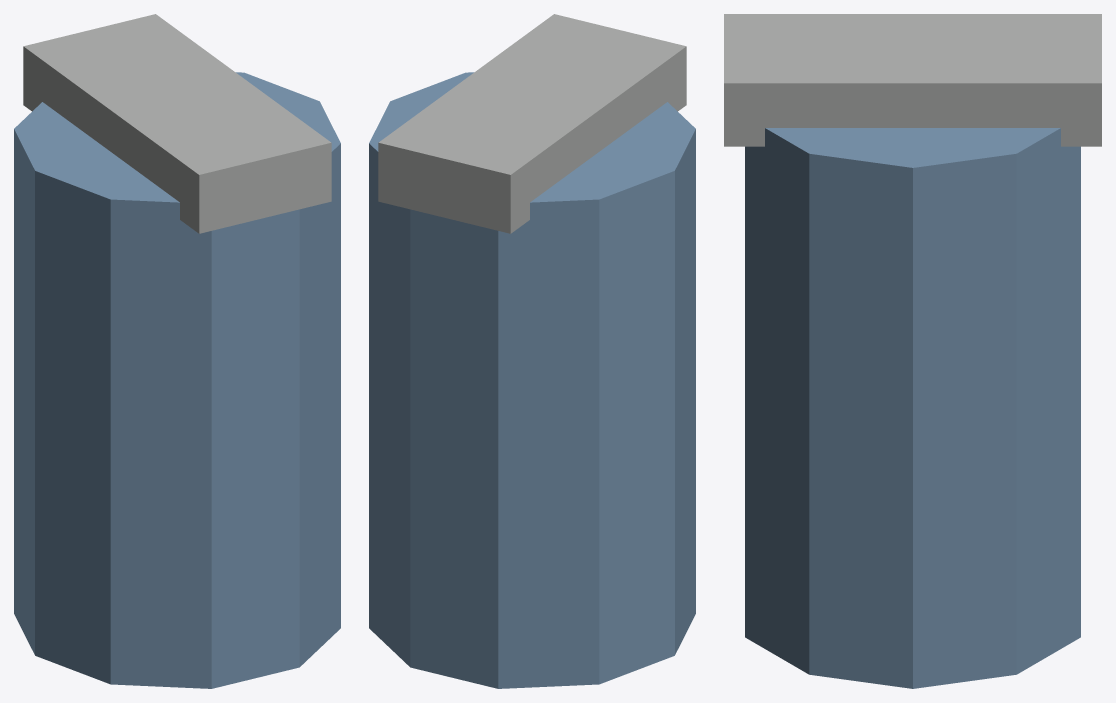
File: oiltin.glb
3 views of the same model, side by side, from view 1: azimuth 30°, elevation 25°; view 2: azimuth 150°, elevation 25°; view 3: azimuth 270°, elevation 25° (orthographic). The views are drawn at different scales.
Visible parts, largest first — view 1: NC_oiltin; view 2: NC_oiltin; view 3: NC_oiltin.
Part boxes in pixels (left/top/right/bottom): NC_oiltin: left=14, top=14, right=340, bottom=688; NC_oiltin: left=369, top=14, right=695, bottom=688; NC_oiltin: left=724, top=14, right=1101, bottom=688.
Size of the model in its own units: 0.086 by 0.152 by 0.092.
